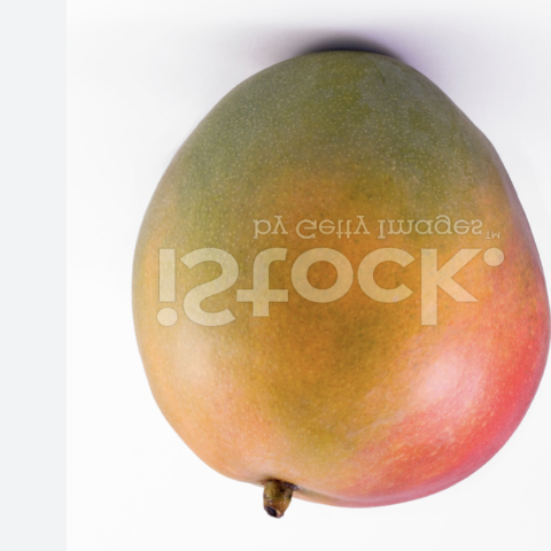mango: (103, 11, 549, 540)
